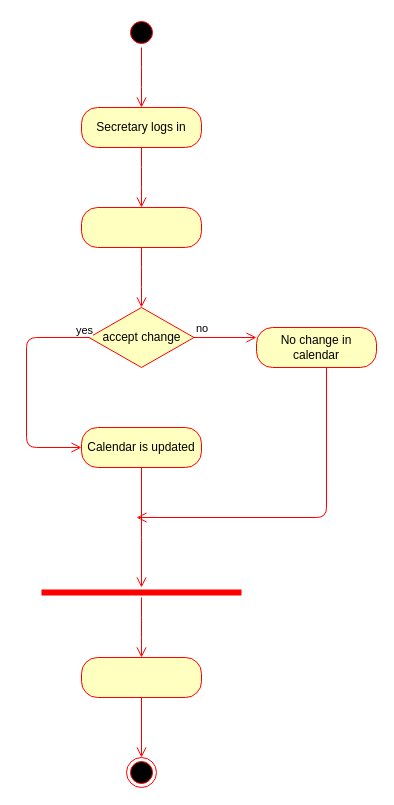
Some shapes in this 394 by 805 pixel diagram are drawn without their labels. Here are the shapes that lost their labels. From the top down, the centre of each, then its label:
At point 141,227: "views changed appointment".
At point 141,677: "back to main page".
